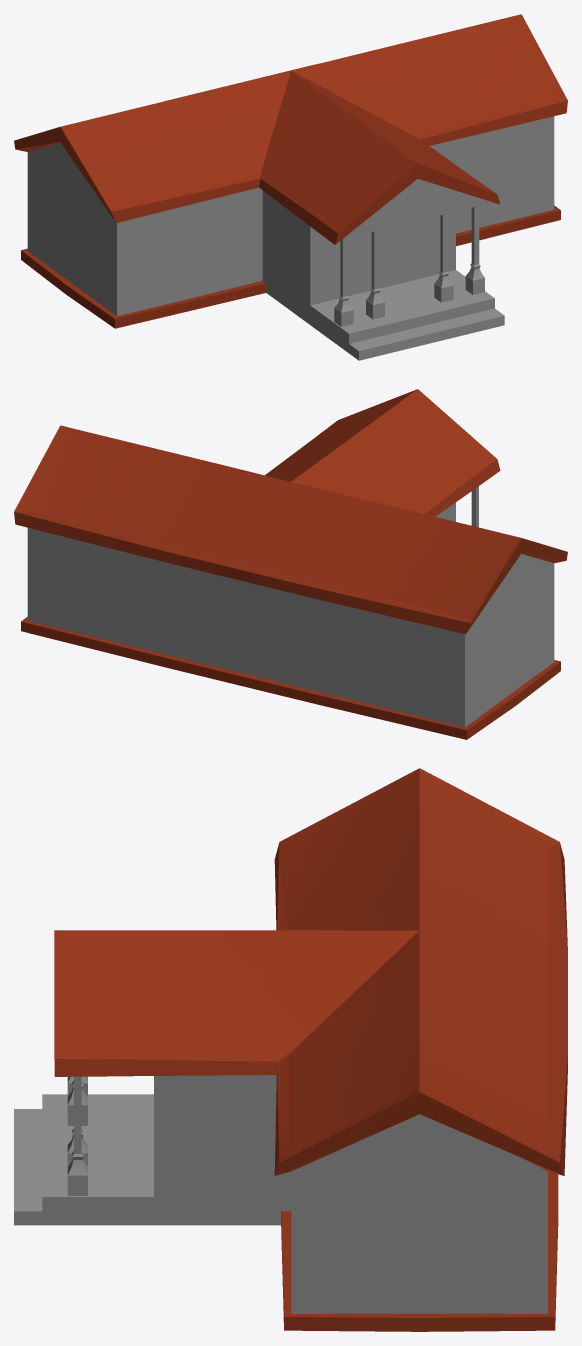
The model's file is prefeitura.FBX.
3 views of the same model, one above another, from view 1: azimuth 30°, elevation 25°; view 2: azimuth 150°, elevation 25°; view 3: azimuth 270°, elevation 25° (orthographic). The views are drawn at different scales.
Visible parts, largest first — view 1: Box006; view 2: Box006; view 3: Box006.
Part boxes in pixels (left/top/right/bottom): Box006: left=14, top=14, right=567, bottom=360; Box006: left=14, top=389, right=567, bottom=739; Box006: left=14, top=768, right=567, bottom=1331.
Bounding box in the file's own units: 544 × 191 × 393.
